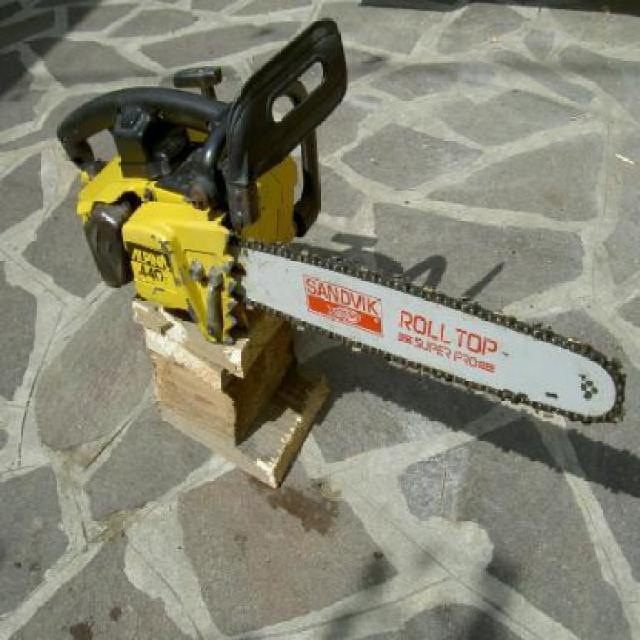Chainsaw: (59, 19, 626, 426)
